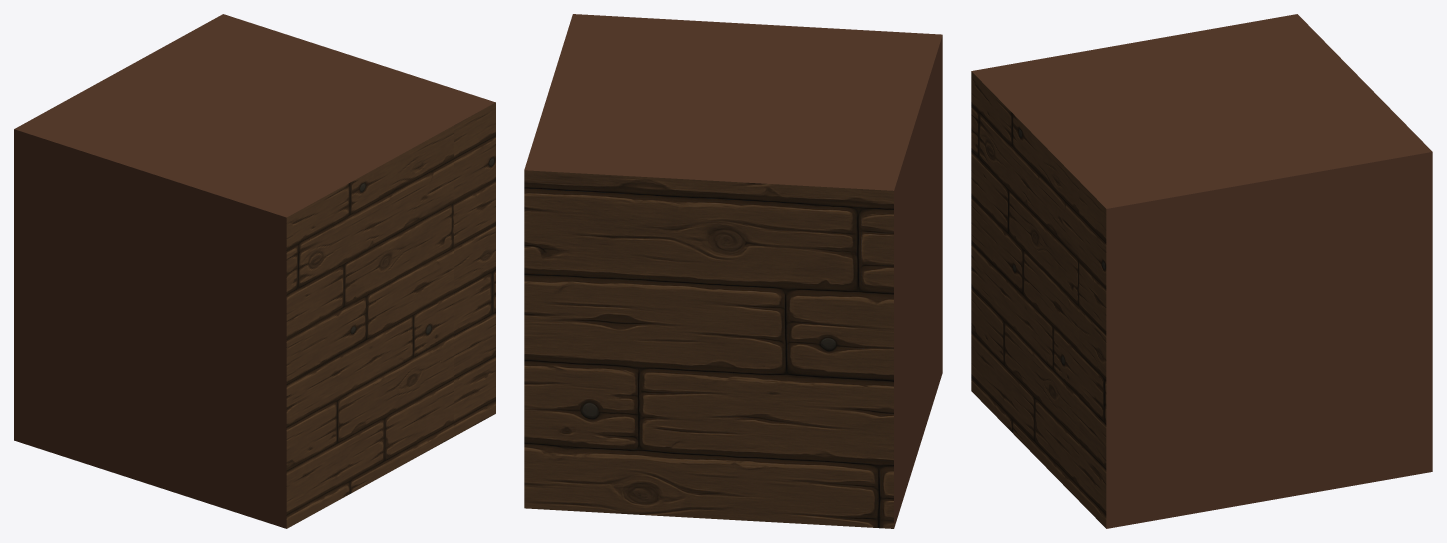
Rendered from blocco_uv_2.fbx.
3 renders of one model, left to right at view 1: azimuth 30°, elevation 25°; view 2: azimuth 150°, elevation 25°; view 3: azimuth 270°, elevation 25°, orthographic. The views are drawn at different scales.
Visible parts, largest first — view 1: Muro_dritto.005; view 2: Muro_dritto.005; view 3: Muro_dritto.005.
Boxes of the visible parts, x1,y1,x2,y2 form: Muro_dritto.005: [14, 14, 495, 528]; Muro_dritto.005: [524, 14, 942, 528]; Muro_dritto.005: [971, 14, 1432, 528].
Bounding box in the file's own units: 261 × 200 × 261.
2 materials, 2 textured.
